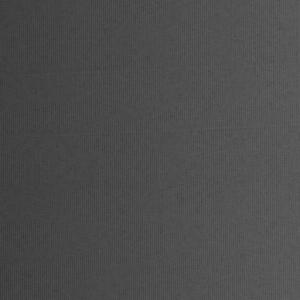Wrinkle: (1, 121, 300, 151), (1, 56, 143, 93)
